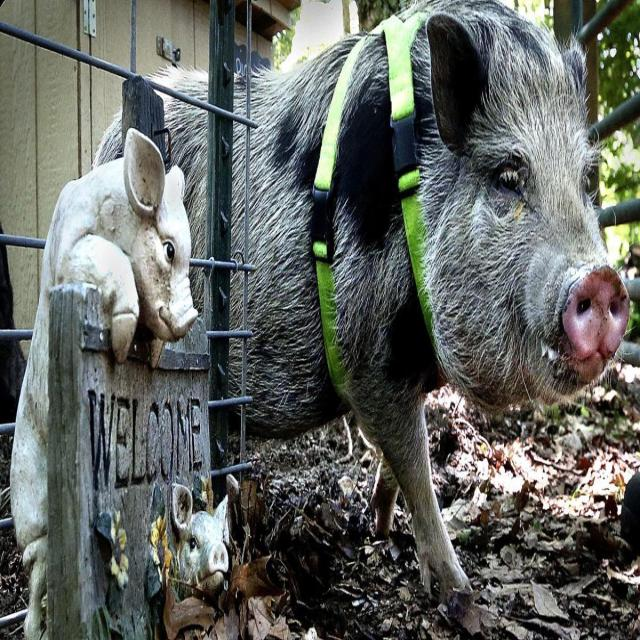Pig: (100, 0, 630, 622), (13, 132, 207, 638)
